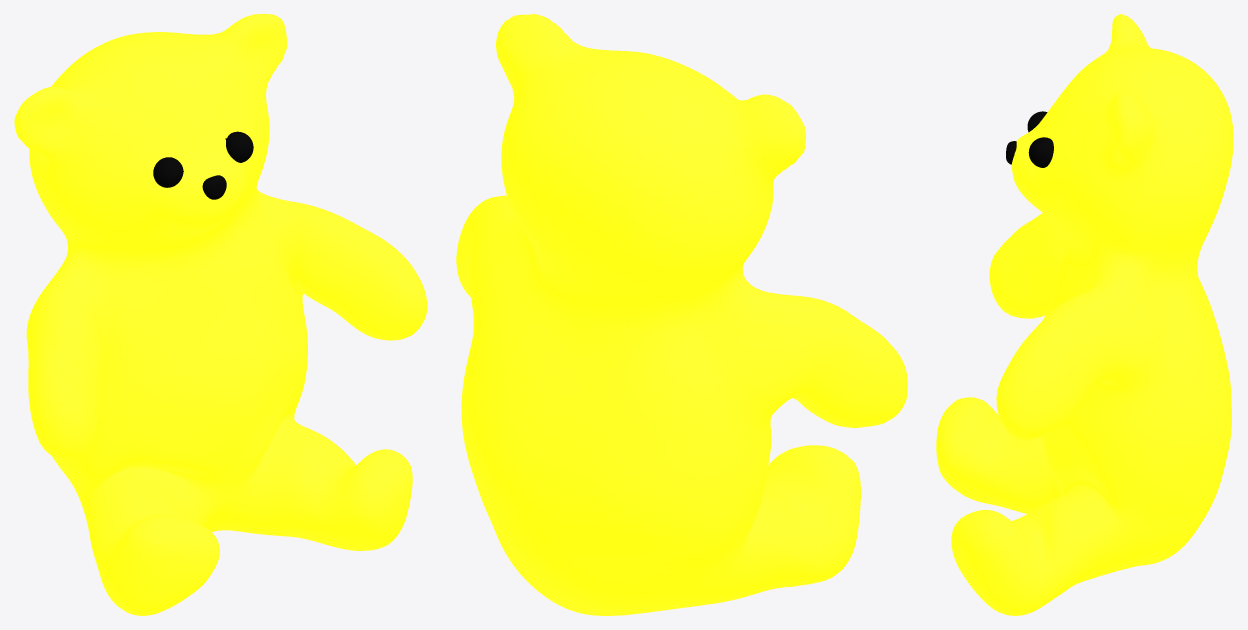
File: teddy.fbx
3 renders of one model, left to right at view 1: azimuth 30°, elevation 25°; view 2: azimuth 150°, elevation 25°; view 3: azimuth 270°, elevation 25°, orthographic. The views are drawn at different scales.
Parts seen in each view (by area): view 1: Sphere, Sphere.003, Sphere.002; view 2: Sphere; view 3: Sphere, Sphere.002.
Part boxes in pixels (x1=…): Sphere: x1=14, y1=14, x2=427, y2=615; Sphere.003: x1=153, y1=157, x2=183, y2=187; Sphere.002: x1=225, y1=131, x2=253, y2=162; Sphere: x1=456, y1=14, x2=907, y2=615; Sphere: x1=936, y1=14, x2=1233, y2=615; Sphere.002: x1=1028, y1=137, x2=1053, y2=167.
Bounding box in the file's own units: 18.41 × 22.96 × 12.55.
